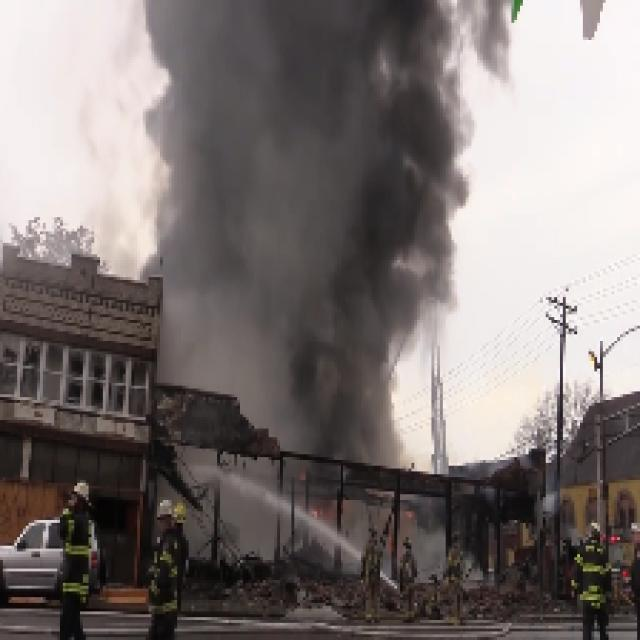fire: (163, 3, 403, 435)
